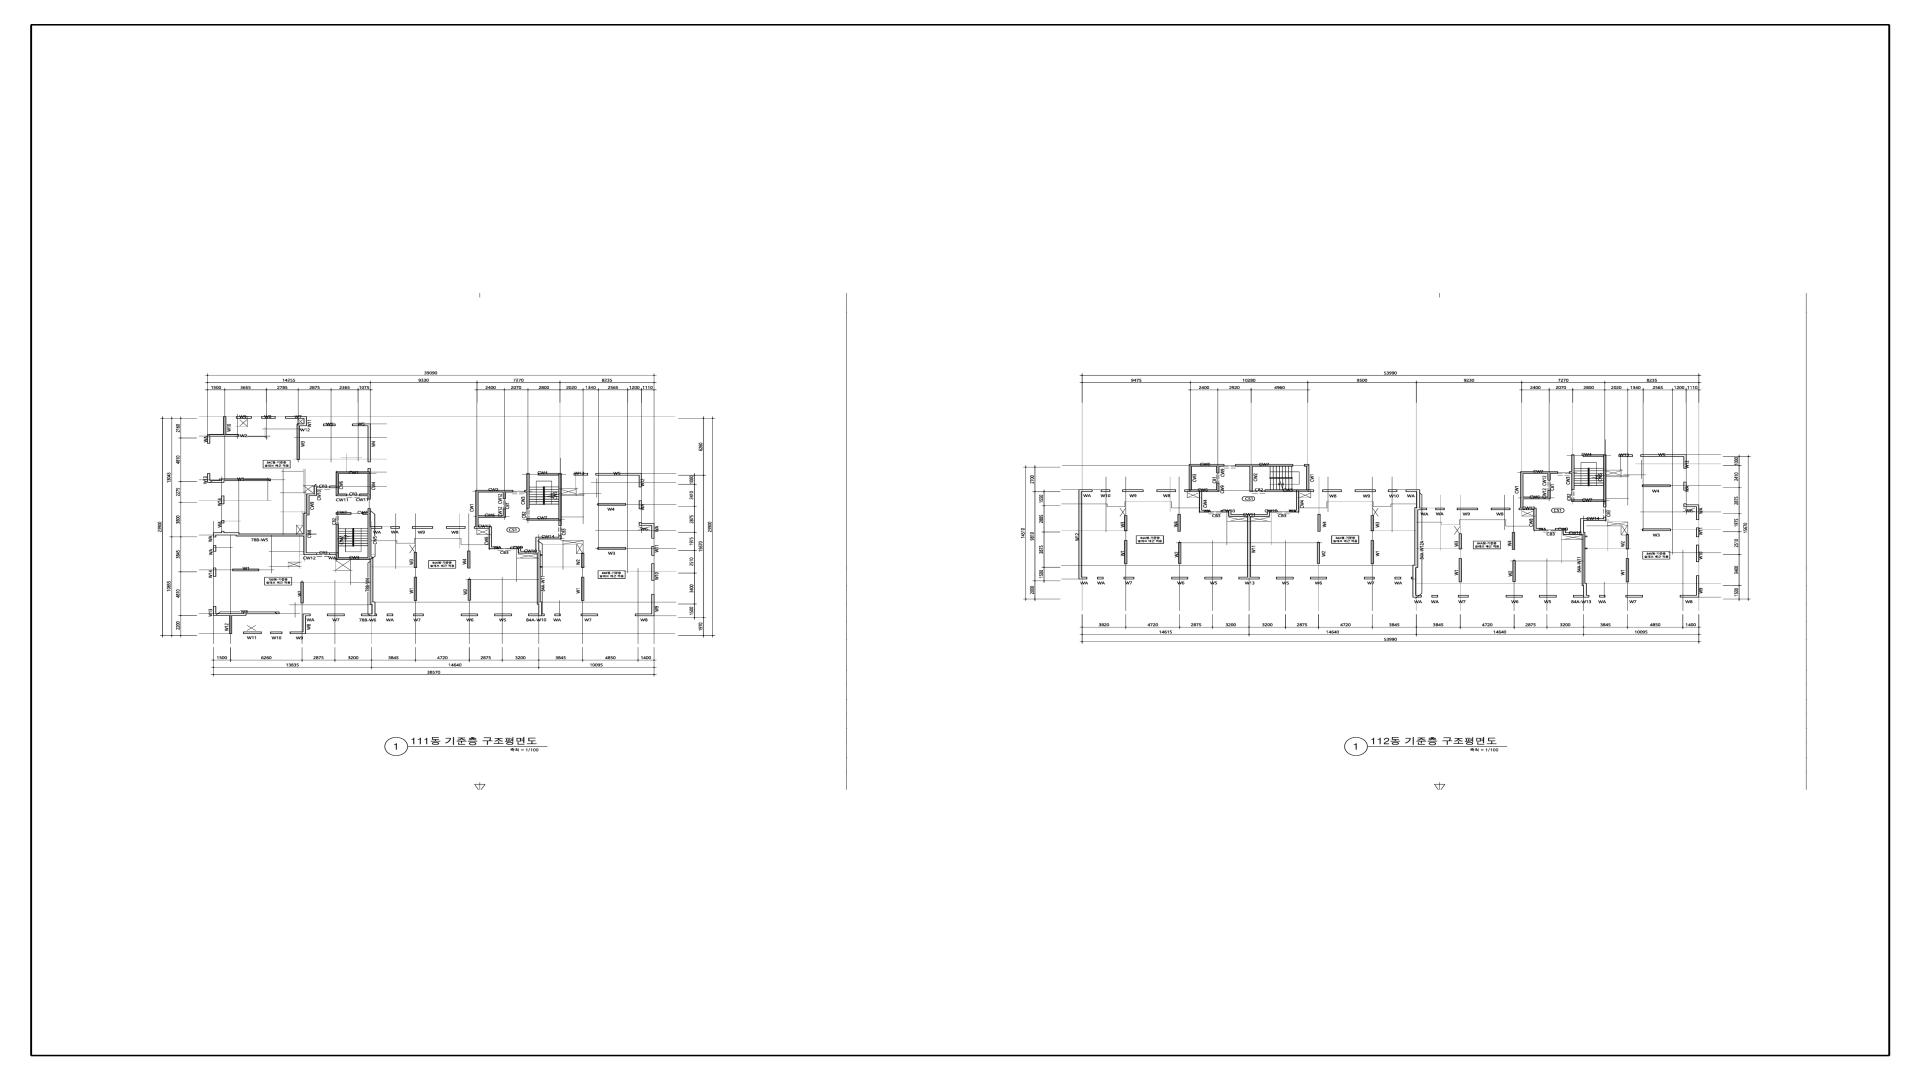wall: (336, 529, 373, 560), (1079, 492, 1088, 579), (303, 513, 318, 555), (1640, 455, 1687, 468), (510, 537, 541, 554), (1555, 518, 1585, 535), (290, 613, 311, 634), (1406, 489, 1427, 510), (1680, 575, 1700, 597), (636, 593, 654, 616), (1221, 510, 1278, 517), (1184, 483, 1220, 492), (368, 508, 382, 529), (214, 607, 247, 616), (1412, 564, 1422, 597), (369, 560, 376, 605), (207, 434, 239, 443), (330, 525, 339, 555), (537, 554, 542, 605), (479, 509, 506, 518), (1523, 491, 1551, 500), (638, 522, 654, 538), (1684, 504, 1700, 520), (297, 423, 303, 460), (1247, 517, 1251, 576), (1199, 492, 1209, 513), (1415, 510, 1419, 564), (285, 417, 307, 426), (1582, 535, 1586, 585), (1290, 492, 1299, 513), (525, 473, 530, 509), (1569, 455, 1575, 491), (489, 529, 498, 549), (1534, 510, 1543, 530), (214, 531, 240, 538), (240, 534, 303, 537), (207, 473, 224, 483), (1236, 464, 1294, 467), (1604, 456, 1606, 508), (559, 476, 562, 526), (1304, 464, 1309, 489), (1265, 489, 1313, 492), (306, 485, 318, 496), (596, 473, 642, 476), (224, 479, 270, 481), (1520, 471, 1559, 473), (1458, 558, 1462, 583), (368, 426, 371, 463), (1189, 464, 1225, 467), (476, 492, 479, 526), (1520, 473, 1523, 508), (539, 535, 562, 539), (1178, 542, 1182, 564), (1584, 517, 1606, 521), (247, 612, 280, 615), (526, 518, 559, 521), (368, 468, 371, 500), (336, 471, 368, 473), (1572, 500, 1604, 502), (597, 547, 626, 550), (1642, 529, 1671, 531), (232, 568, 260, 571), (223, 417, 227, 434), (306, 496, 310, 513), (467, 551, 471, 568), (1696, 545, 1700, 562), (414, 576, 417, 601), (582, 576, 584, 601), (1250, 467, 1253, 492), (1626, 558, 1629, 583), (538, 473, 562, 476), (1371, 541, 1374, 564), (1458, 534, 1462, 550), (1124, 516, 1127, 531), (1125, 541, 1127, 564), (1582, 455, 1606, 458), (336, 473, 339, 496), (301, 582, 303, 604), (1317, 542, 1320, 564), (1189, 467, 1192, 489), (411, 526, 433, 529), (468, 579, 471, 600), (1354, 489, 1375, 492), (1122, 489, 1143, 492), (1238, 576, 1259, 579), (1513, 560, 1515, 582), (1457, 508, 1478, 510), (446, 526, 465, 529), (1323, 489, 1342, 492), (1156, 489, 1176, 492), (352, 423, 371, 426), (476, 491, 513, 492), (580, 613, 599, 616), (243, 632, 261, 634), (229, 616, 232, 634), (1204, 576, 1222, 579), (1539, 595, 1557, 597), (1491, 508, 1510, 510), (638, 476, 642, 488), (475, 526, 492, 529), (651, 563, 654, 580), (495, 613, 512, 616), (327, 613, 344, 616), (1317, 514, 1320, 531), (1178, 514, 1180, 531), (1171, 576, 1188, 579), (1506, 595, 1523, 597), (1626, 595, 1643, 597), (1519, 508, 1536, 510), (1513, 533, 1515, 550), (236, 417, 252, 419), (529, 613, 545, 616), (462, 613, 477, 616), (361, 613, 377, 616), (336, 512, 352, 514), (414, 553, 417, 568), (582, 553, 584, 568), (1371, 516, 1374, 531), (1311, 576, 1327, 579), (1573, 595, 1589, 597), (1626, 534, 1629, 550), (597, 504, 626, 505), (261, 417, 276, 419), (574, 473, 588, 476), (1642, 485, 1671, 487), (538, 604, 542, 613), (1696, 527, 1700, 537), (1079, 489, 1092, 492), (323, 423, 335, 426), (638, 501, 642, 509), (270, 632, 282, 634), (372, 605, 376, 613), (1364, 576, 1375, 579), (413, 613, 423, 616), (1458, 595, 1469, 597), (502, 492, 506, 498), (390, 526, 400, 529), (651, 546, 654, 555), (1389, 489, 1398, 492), (1101, 489, 1110, 492), (1684, 481, 1687, 491), (1584, 585, 1586, 595), (1436, 508, 1445, 510), (1276, 578, 1294, 579), (214, 568, 216, 576), (222, 496, 224, 504), (339, 493, 347, 496), (360, 493, 368, 496), (1618, 455, 1633, 456), (386, 613, 393, 616), (214, 545, 216, 551), (330, 485, 336, 488), (1097, 576, 1104, 579), (1395, 576, 1402, 579), (1432, 595, 1439, 597), (1600, 595, 1606, 597), (1548, 473, 1551, 480), (555, 613, 560, 616), (1124, 578, 1134, 579), (222, 521, 224, 524), (363, 513, 368, 514), (1411, 576, 1412, 579)
